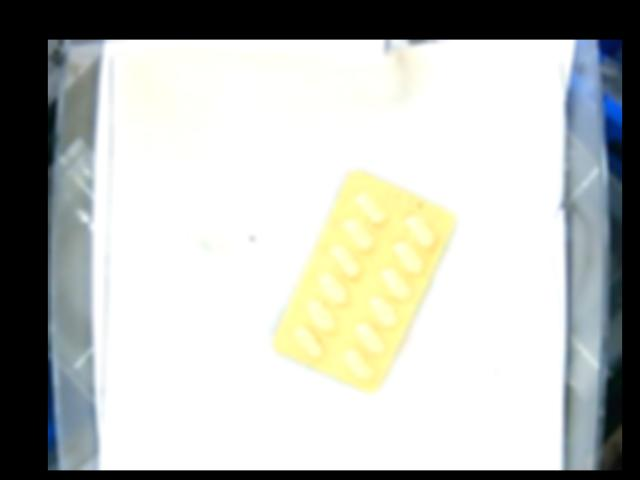Medicine: (275, 169, 454, 394)
